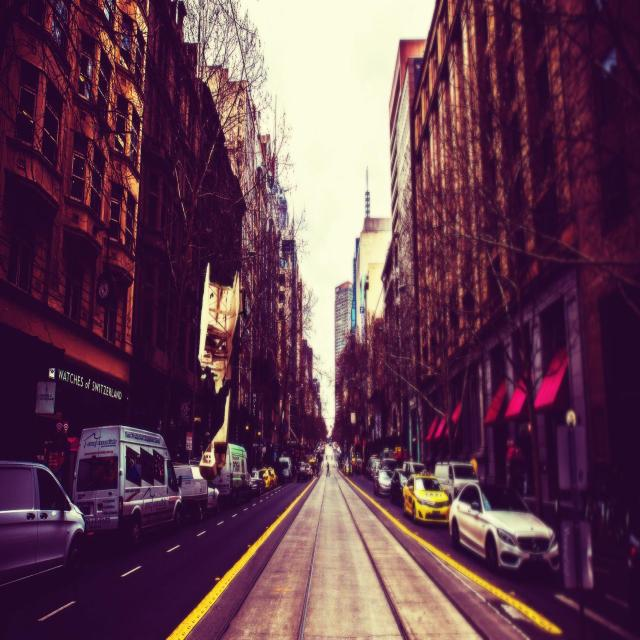airplane: (197, 262, 240, 479)
